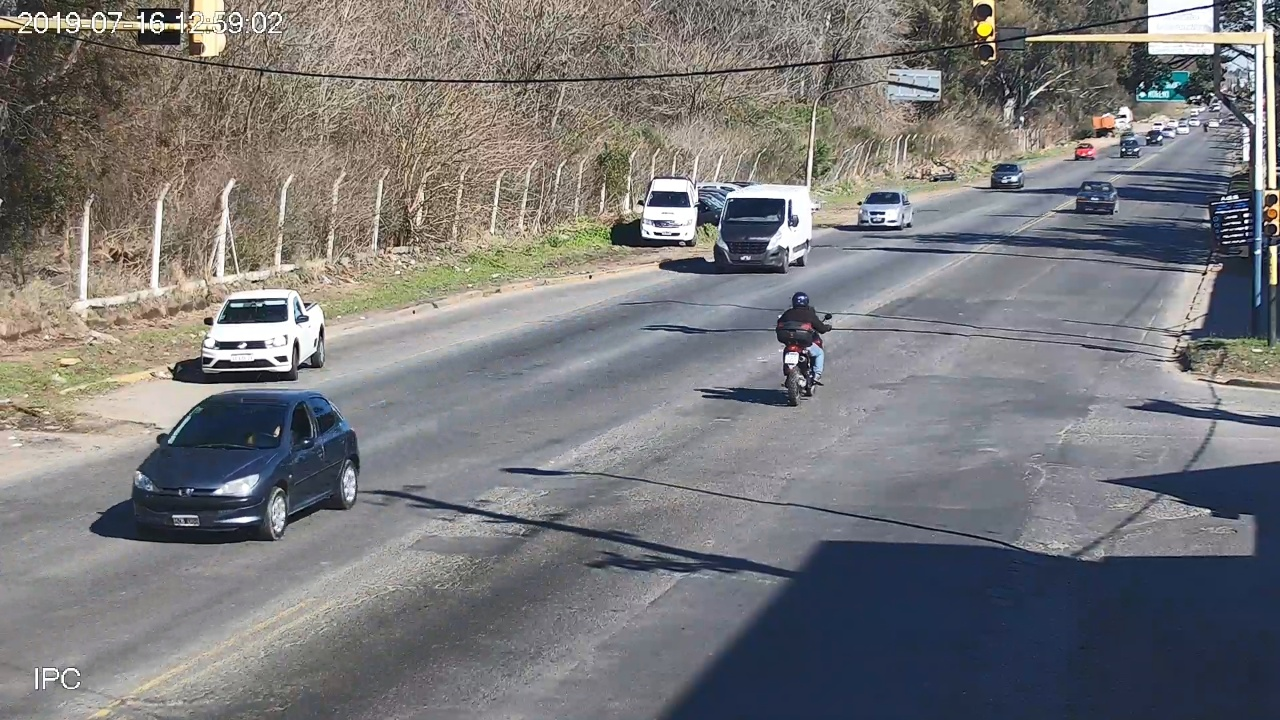front car: (130, 389, 359, 539), (201, 289, 327, 379), (714, 185, 812, 273), (857, 191, 913, 230)
motorcycle: (775, 312, 832, 405)
traffic light: (975, 1, 995, 60), (1264, 190, 1280, 237)
